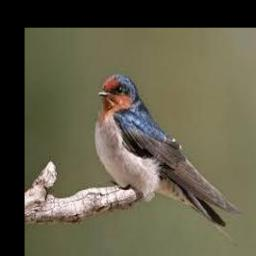Swallow: (94, 74, 244, 246)
